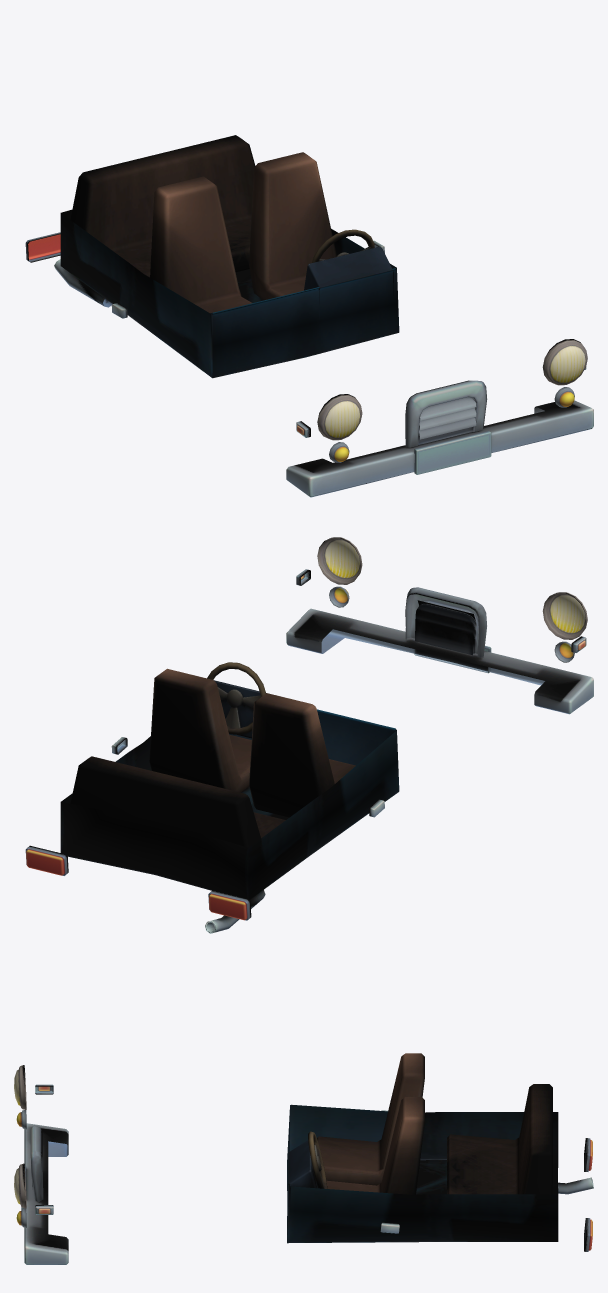
Rendered from Car.fbx.
The picture shows the model from 3 angles, top to bottom: view 1: azimuth 30°, elevation 25°; view 2: azimuth 150°, elevation 25°; view 3: azimuth 270°, elevation 25°; orthographic projection. The views are drawn at different scales.
Visible parts, largest first — view 1: exterior_car_yellow_01; view 2: exterior_car_yellow_01; view 3: exterior_car_yellow_01.
Part boxes in pixels (x1,y1,x2,y2): exterior_car_yellow_01: (25, 135, 593, 497); exterior_car_yellow_01: (25, 537, 593, 933); exterior_car_yellow_01: (14, 1053, 593, 1264).
Size of the model in its own units: 196 by 167 by 385.
